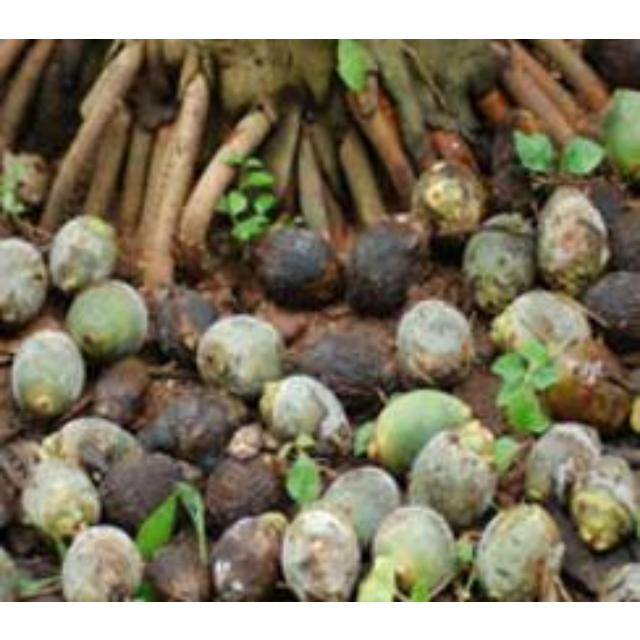damaged: (539, 336, 635, 434), (473, 502, 565, 600), (292, 322, 396, 408), (368, 504, 460, 600), (370, 388, 472, 474), (343, 217, 429, 316), (138, 384, 242, 464), (280, 504, 364, 602), (100, 450, 198, 534), (536, 186, 610, 294), (252, 222, 342, 310), (208, 511, 290, 602), (394, 297, 476, 387), (258, 374, 352, 451), (420, 432, 504, 518), (18, 456, 100, 544), (196, 314, 284, 396), (492, 289, 590, 361), (566, 453, 638, 551), (66, 281, 152, 363), (9, 330, 86, 420), (203, 452, 287, 534), (461, 222, 537, 312), (318, 466, 399, 548), (61, 524, 146, 602), (524, 421, 600, 503), (410, 160, 488, 238), (150, 284, 222, 368), (43, 416, 141, 472), (48, 214, 118, 292), (143, 531, 210, 601), (582, 268, 640, 346), (0, 238, 50, 328), (90, 356, 152, 426), (0, 436, 44, 532), (598, 87, 640, 183), (454, 365, 508, 433), (0, 540, 56, 602), (0, 149, 48, 217), (578, 176, 630, 238), (484, 157, 538, 213)
